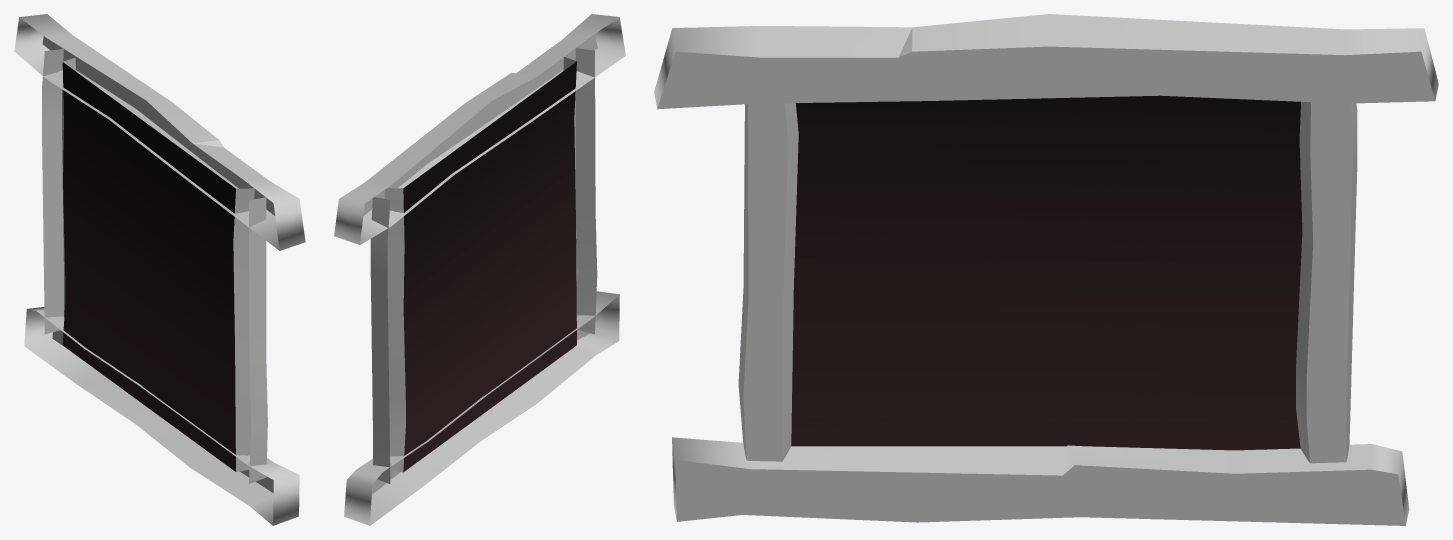
File: lower_city_window_09.fbx
3 views of the same model, side by side, from view 1: azimuth 30°, elevation 25°; view 2: azimuth 150°, elevation 25°; view 3: azimuth 270°, elevation 25° (orthographic). The views are drawn at different scales.
Visible parts, largest first — view 1: lower_city_window_09; view 2: lower_city_window_09; view 3: lower_city_window_09.
Part boxes in pixels (x1=…): lower_city_window_09: x1=14, y1=14, x2=305, y2=525; lower_city_window_09: x1=334, y1=14, x2=625, y2=525; lower_city_window_09: x1=654, y1=14, x2=1438, y2=525.
Bounding box in the file's own units: 0.095 × 1.13 × 1.62.
